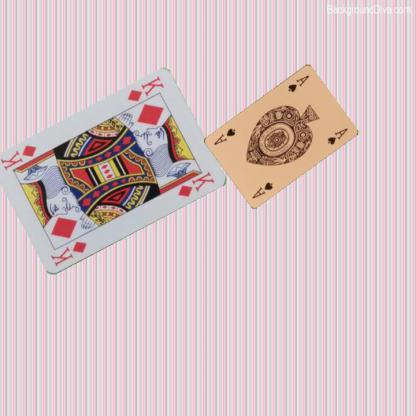As: (286, 72, 310, 93), (249, 179, 274, 199)
Kd: (125, 74, 165, 104), (48, 239, 88, 268)
